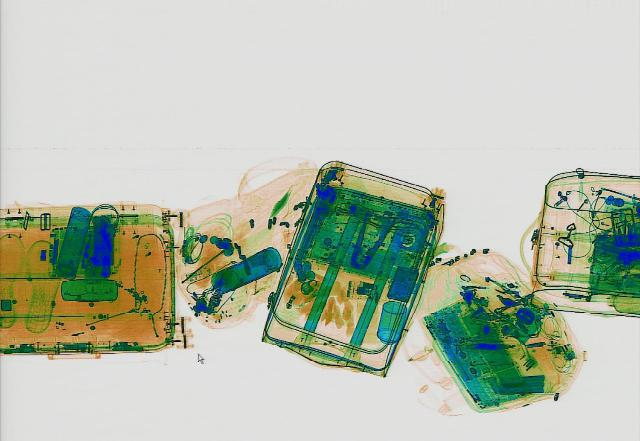Pliers: (339, 211, 399, 270)
